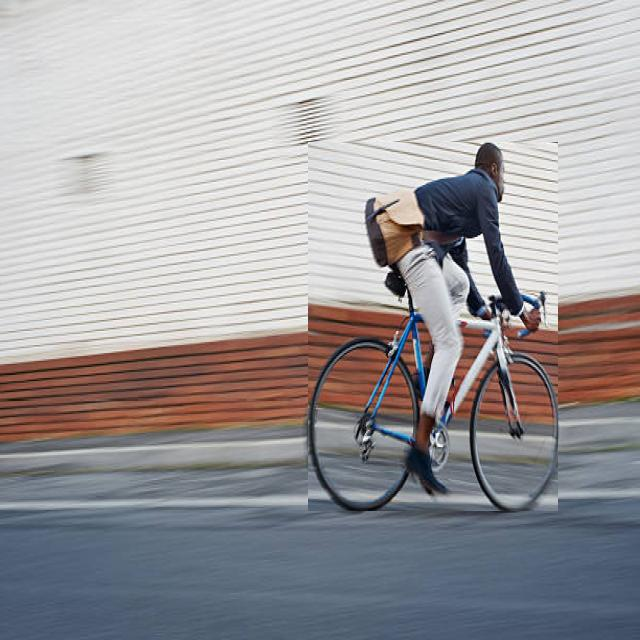bicycle: (308, 143, 558, 511)
